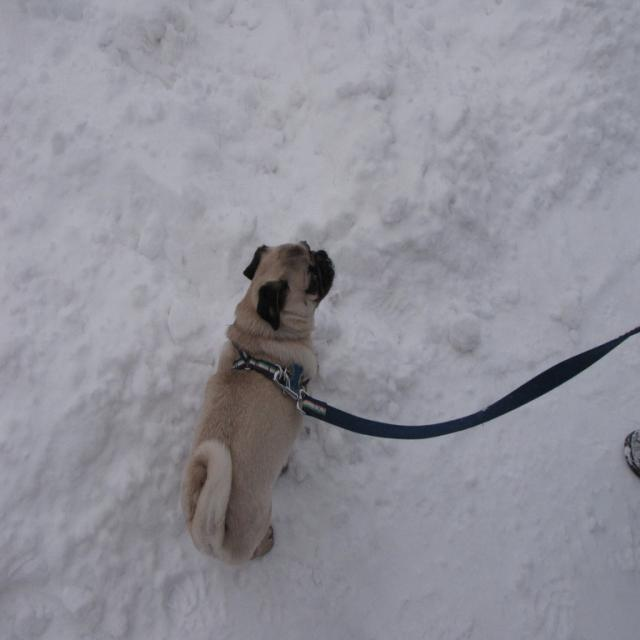Dog: (180, 240, 336, 560)
